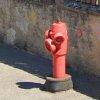a fire hydrant: (42, 16, 72, 79)
